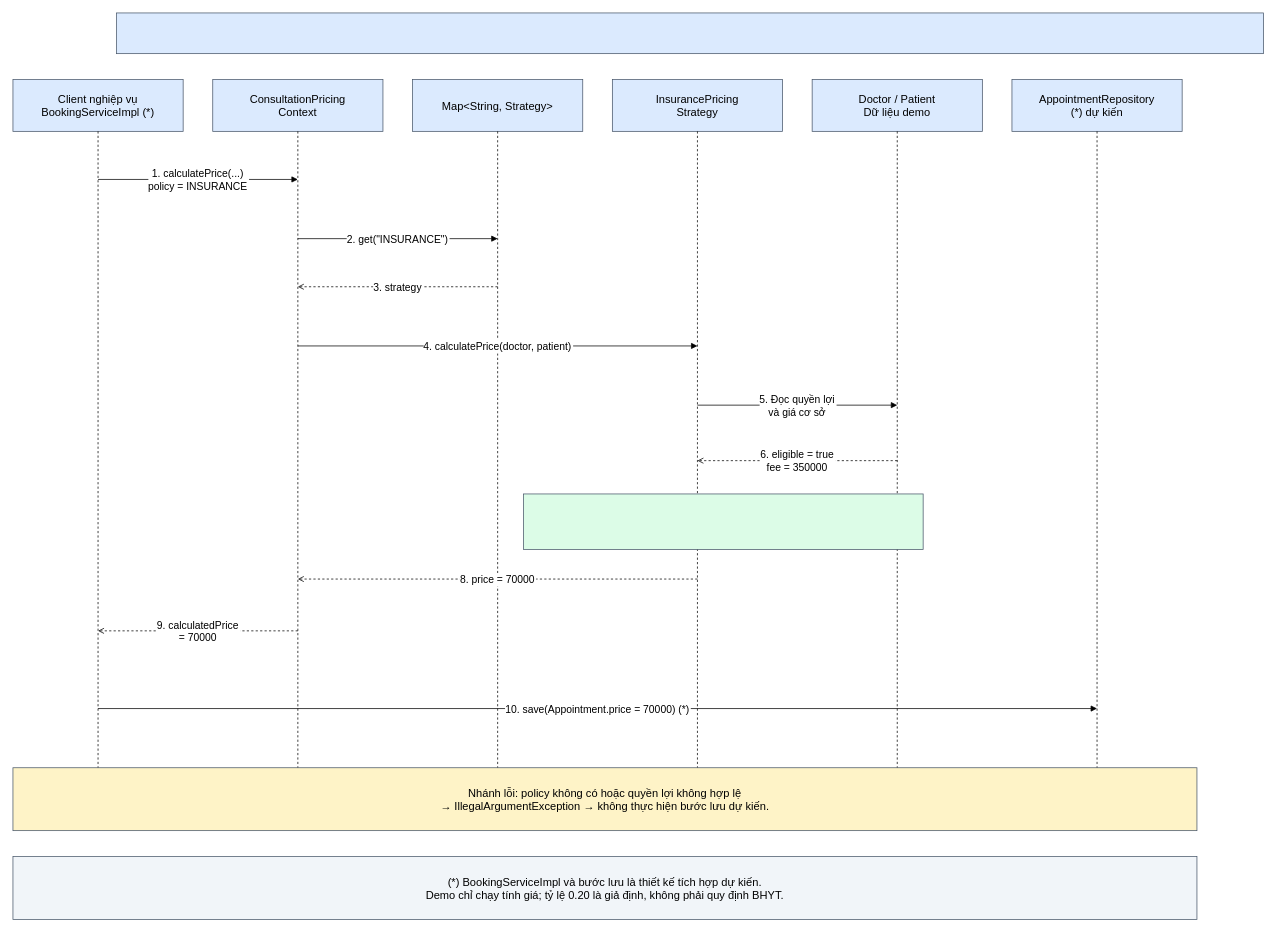
Image size: 1277x932. Some labels were removed from this diagram. The shapes that lost their labels are listed below. From the top down, each one's centre as x and y in pixels, then its label:
the point at 690,33: STRATEGY ĐỊNH GIÁ — SƠ ĐỒ TUẦN TỰ (ĐỀ XUẤT / DEMO)
the point at 723,521: 7. 350000 × 0.20 = 70000 Làm tròn HALF_UP đến đơn vị đồng
